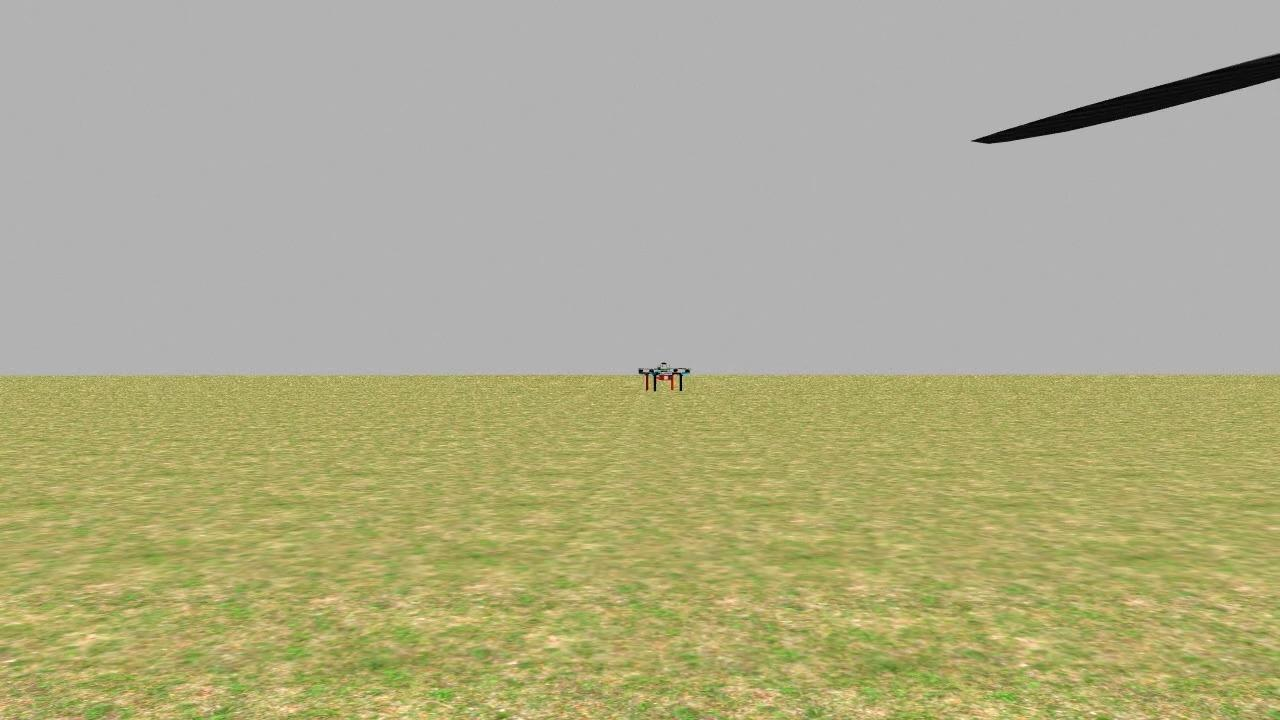UAV: (633, 352, 698, 400)
